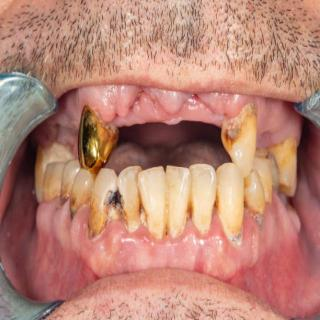LL1BC_decay: (242, 171, 266, 214)
LL2BC_decay: (256, 158, 274, 204)
LLCI_decay: (167, 165, 193, 235)
LLC_decay: (217, 161, 247, 240)
LLLI_decay: (190, 163, 216, 231)
LR1BC_decay: (68, 167, 93, 218)
LR1M_decay: (40, 161, 64, 197)
LR2BC_decay: (61, 160, 81, 204)
LRCI_decay: (136, 166, 167, 237)
LRC_decay: (89, 168, 117, 234)
LRLI_decay: (117, 165, 143, 230)
